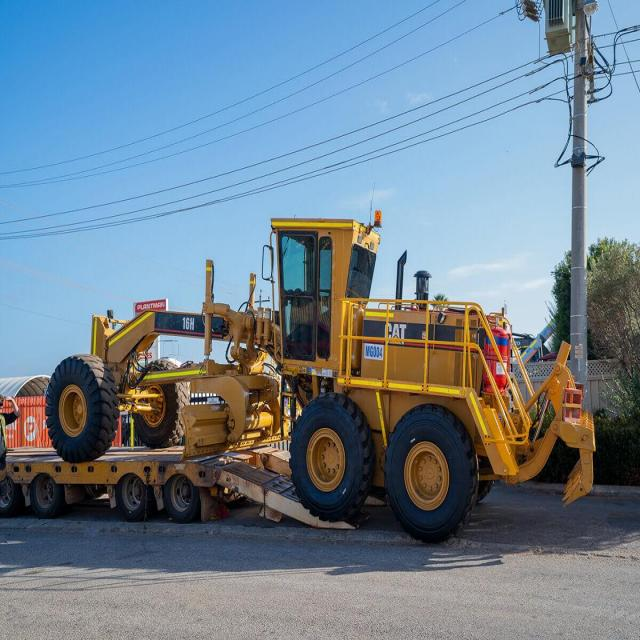Grader: (26, 178, 596, 538)
